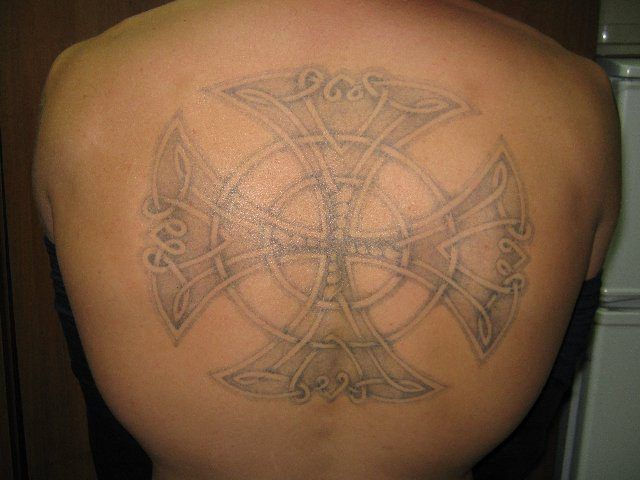tatu9_krest: (143, 51, 526, 379)
